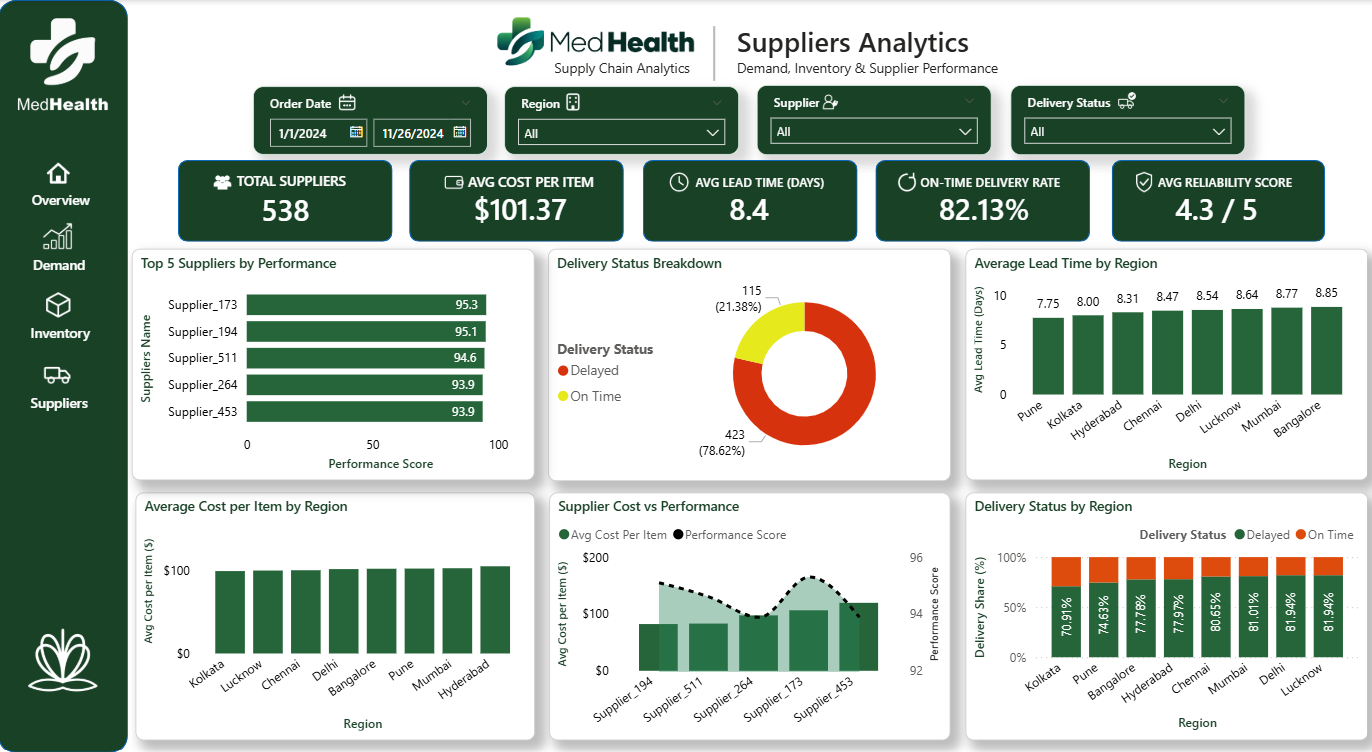

Layout of this report page (visuals, bound fields, positions):
{"tool":"powerbi","page":{"name":"Suppliers Analytics","canvas":[1350,740],"ordinal":3},"visuals":[{"type":"shape","box":[0,0,127.5,739.5],"z":0},{"type":"image","box":[468.5,0,234.9,80.2],"z":0,"group":"g1"},{"type":"image","box":[34.5,143.5,50,52.3],"z":0,"group":"g2"},{"type":"shape","box":[668.5,25.6,68.6,53.5],"z":1000,"group":"g1"},{"type":"textbox","box":[27.3,180.9,69.9,31.9],"z":1000,"group":"g2"},{"type":"image","box":[0,600,127.9,119.8],"z":1000},{"type":"textbox","box":[719.7,17.4,268.6,46.5],"z":2000,"group":"g1"},{"type":"image","box":[7,80.2,134.9,47.7],"z":2000},{"type":"image","box":[34.5,206.3,50,52.3],"z":2000,"group":"g2"},{"type":"image","box":[23.3,0,81.4,101.2],"z":3000},{"type":"textbox","box":[719.7,52.3,290.7,30.2],"z":3000,"group":"g1"},{"type":"textbox","box":[28.6,244.7,66.2,31.9],"z":3000,"group":"g2"},{"type":"textbox","box":[540.6,52.3,153.5,30.2],"z":4000,"group":"g1"},{"type":"slicer","fields":{"Values":["supplier_procurement.Last_Order_Date"]},"box":[250.2,84.4,230.2,67.4],"z":4000},{"type":"image","box":[34.5,272.6,50,52.3],"z":4000,"group":"g2"},{"type":"slicer","fields":{"Values":["supplier_procurement.Supplier_Name"]},"box":[744.4,83.2,230.2,68.6],"z":5000},{"type":"textbox","box":[23,312.1,77.3,28.2],"z":5000,"group":"g2"},{"type":"group","id":"g1","title":"Group 1","box":[468.5,0,542.1,82.2],"z":6000},{"type":"image","box":[34.5,338.8,50,52.3],"z":6000,"group":"g2"},{"type":"slicer","fields":{"Values":["supplier_procurement.Region"]},"box":[496.7,84.4,230.2,67.4],"z":7000},{"type":"textbox","box":[27.1,380.8,72.4,30.7],"z":7000,"group":"g2"},{"type":"slicer","fields":{"Values":["supplier_procurement.Delivery Status"]},"box":[993.2,83.2,230.2,68.6],"z":8000},{"type":"image","box":[322.3,80.9,40.7,37.2],"z":9000},{"type":"shape","box":[176.5,157,210.5,80.2],"z":10000},{"type":"image","box":[543.2,79.7,41.9,38.4],"z":11000},{"type":"image","box":[801.3,83.2,31.4,32.6],"z":12000},{"type":"image","box":[1092,82,31.4,32.6],"z":13000},{"type":"shape","box":[403.3,157,210.5,80.2],"z":14000},{"type":"shape","box":[632.3,157,210.5,80.2],"z":15000},{"type":"shape","box":[861.4,157,210.5,80.2],"z":16000},{"type":"donutChart","title":"Delivery Status Breakdown","fields":{"Y":["CountNonNull(supplier_procurement.Supplier_ID)"],"Category":["supplier_procurement.Delivery Status"]},"box":[539.6,244.1,394.9,228.1],"z":17000},{"type":"card","title":"TOTAL SALES","fields":{"Values":["supplier_procurement.Total Suppliers"]},"box":[157,168.3,250.2,77.3],"z":18000},{"type":"clusteredColumnChart","title":"Average Lead Time by Region","fields":{"Category":["supplier_procurement.Region"],"Y":["Avg(supplier_procurement.Avg_Lead_Time_Days)"]},"box":[949.4,244.6,395.1,227.2],"z":19000},{"type":"textbox","box":[229.3,163.1,133.7,29.4],"z":20000},{"type":"card","title":"TOTAL SALES","fields":{"Values":["supplier_procurement.Avg Cost Per Item"]},"box":[387,168.6,250,76.7],"z":21000},{"type":"textbox","box":[452.5,164.3,142.3,28.2],"z":22000},{"type":"card","title":"TOTAL SALES","fields":{"Values":["Avg(supplier_procurement.Avg_Lead_Time_Days)"]},"box":[612.6,168.6,250,76.7],"z":23000},{"type":"textbox","box":[680,164,147.7,27.9],"z":24000},{"type":"card","title":"TOTAL SALES","fields":{"Values":["supplier_procurement.On Time Delivery %"]},"box":[842.8,168.6,250,76.7],"z":25000},{"type":"image","box":[869.5,158.1,44.2,41.9],"z":26000},{"type":"textbox","box":[899.8,164,162.8,27.9],"z":27000},{"type":"shape","box":[1092.8,157,209.3,80.2],"z":28000},{"type":"image","box":[198.7,160.7,42.9,35.6],"z":29000},{"type":"image","box":[425.6,160.7,42.9,35.6],"z":30000},{"type":"image","box":[646.3,160.5,44.2,36],"z":31000},{"type":"textbox","box":[1133.2,164.3,153.3,28.2],"z":32000},{"type":"card","title":"TOTAL SALES","fields":{"Values":["supplier_procurement.Avg Reliability Score"]},"box":[1070.7,168.6,250,76.7],"z":33000},{"type":"image","box":[1102.1,160.5,44.2,36],"z":34000},{"type":"clusteredColumnChart","title":"Average Cost per Item by Region","fields":{"Category":["supplier_procurement.Region"],"Y":["supplier_procurement.Avg Cost Per Item"]},"box":[134.6,483.4,392.2,243.1],"z":35000},{"type":"lineClusteredColumnComboChart","title":"Supplier Cost vs Performance","fields":{"Category":["supplier_procurement.Supplier_Name"],"Y":["supplier_procurement.Avg Cost Per Item"],"Y2":["Avg(supplier_procurement.Supplier Performance Score)"]},"box":[541.3,483.4,393.7,243.1],"z":36000},{"type":"clusteredBarChart","title":"Top 5 Suppliers by Performance","fields":{"Category":["supplier_procurement.Supplier_Name"],"Y":["Avg(supplier_procurement.Supplier Performance Score)"]},"box":[131.7,244.6,395.1,227.2],"z":37000},{"type":"hundredPercentStackedColumnChart","title":"Delivery Status by Region","fields":{"Category":["supplier_procurement.Region"],"Y":["CountNonNull(supplier_procurement.Supplier_ID)"],"Series":["supplier_procurement.Delivery Status"]},"box":[949.2,483.2,394.9,242.8],"z":38000},{"type":"group","id":"g2","title":"Group 2","box":[23,143.5,77.3,268],"z":39000},{"type":"actionButton","box":[14.1,139.7,100,73.1],"z":40000},{"type":"actionButton","box":[14.1,206.4,100,70.5],"z":41000},{"type":"actionButton","box":[12.8,278.2,100,61.5],"z":42000},{"type":"actionButton","box":[6.4,351.3,100,71.8],"z":43000}]}

Visuals, with their boxes on the page's 1350x740 design canvas (x1, y1, x2, y2). These are canvas units, not pixel positions in the 1372x752 screenshot, which may show the page scaled, cropped or inside an application window:
shape: 0,0,128,740
image: 468,0,703,80
image: 34,144,84,196
shape: 668,26,737,79
textbox: 27,181,97,213
image: 0,600,128,720
textbox: 720,17,988,64
image: 7,80,142,128
image: 34,206,84,259
image: 23,0,105,101
textbox: 720,52,1010,82
textbox: 29,245,95,277
textbox: 541,52,694,82
slicer - supplier_procurement.Last_Order_Date: 250,84,480,152
image: 34,273,84,325
slicer - supplier_procurement.Supplier_Name: 744,83,975,152
textbox: 23,312,100,340
"Group 1" group: 468,0,1011,82
image: 34,339,84,391
slicer - supplier_procurement.Region: 497,84,727,152
textbox: 27,381,100,412
slicer - supplier_procurement.Delivery Status: 993,83,1223,152
image: 322,81,363,118
shape: 176,157,387,237
image: 543,80,585,118
image: 801,83,833,116
image: 1092,82,1123,115
shape: 403,157,614,237
shape: 632,157,843,237
shape: 861,157,1072,237
"Delivery Status Breakdown" donutChart: 540,244,934,472
"TOTAL SALES" card: 157,168,407,246
"Average Lead Time by Region" clusteredColumnChart: 949,245,1344,472
textbox: 229,163,363,192
"TOTAL SALES" card: 387,169,637,245
textbox: 452,164,595,192
"TOTAL SALES" card: 613,169,863,245
textbox: 680,164,828,192
"TOTAL SALES" card: 843,169,1093,245
image: 870,158,914,200
textbox: 900,164,1063,192
shape: 1093,157,1302,237
image: 199,161,242,196
image: 426,161,468,196
image: 646,160,690,196
textbox: 1133,164,1286,192
"TOTAL SALES" card: 1071,169,1321,245
image: 1102,160,1146,196
"Average Cost per Item by Region" clusteredColumnChart: 135,483,527,726
"Supplier Cost vs Performance" lineClusteredColumnComboChart: 541,483,935,726
"Top 5 Suppliers by Performance" clusteredBarChart: 132,245,527,472
"Delivery Status by Region" hundredPercentStackedColumnChart: 949,483,1344,726
"Group 2" group: 23,144,100,412
actionButton: 14,140,114,213
actionButton: 14,206,114,277
actionButton: 13,278,113,340
actionButton: 6,351,106,423
